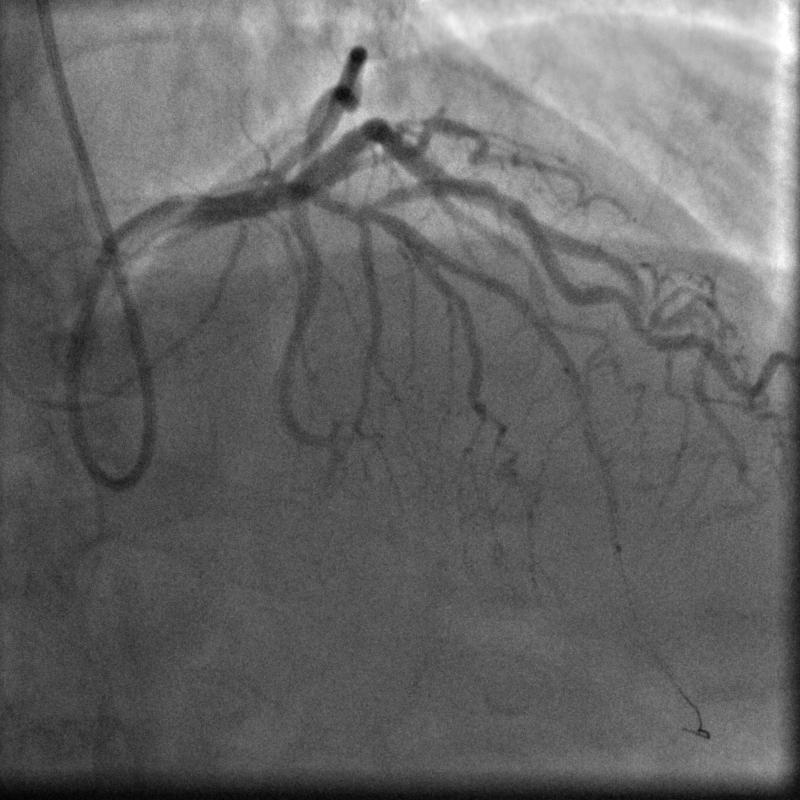Stenosis: (484, 174, 524, 219)
